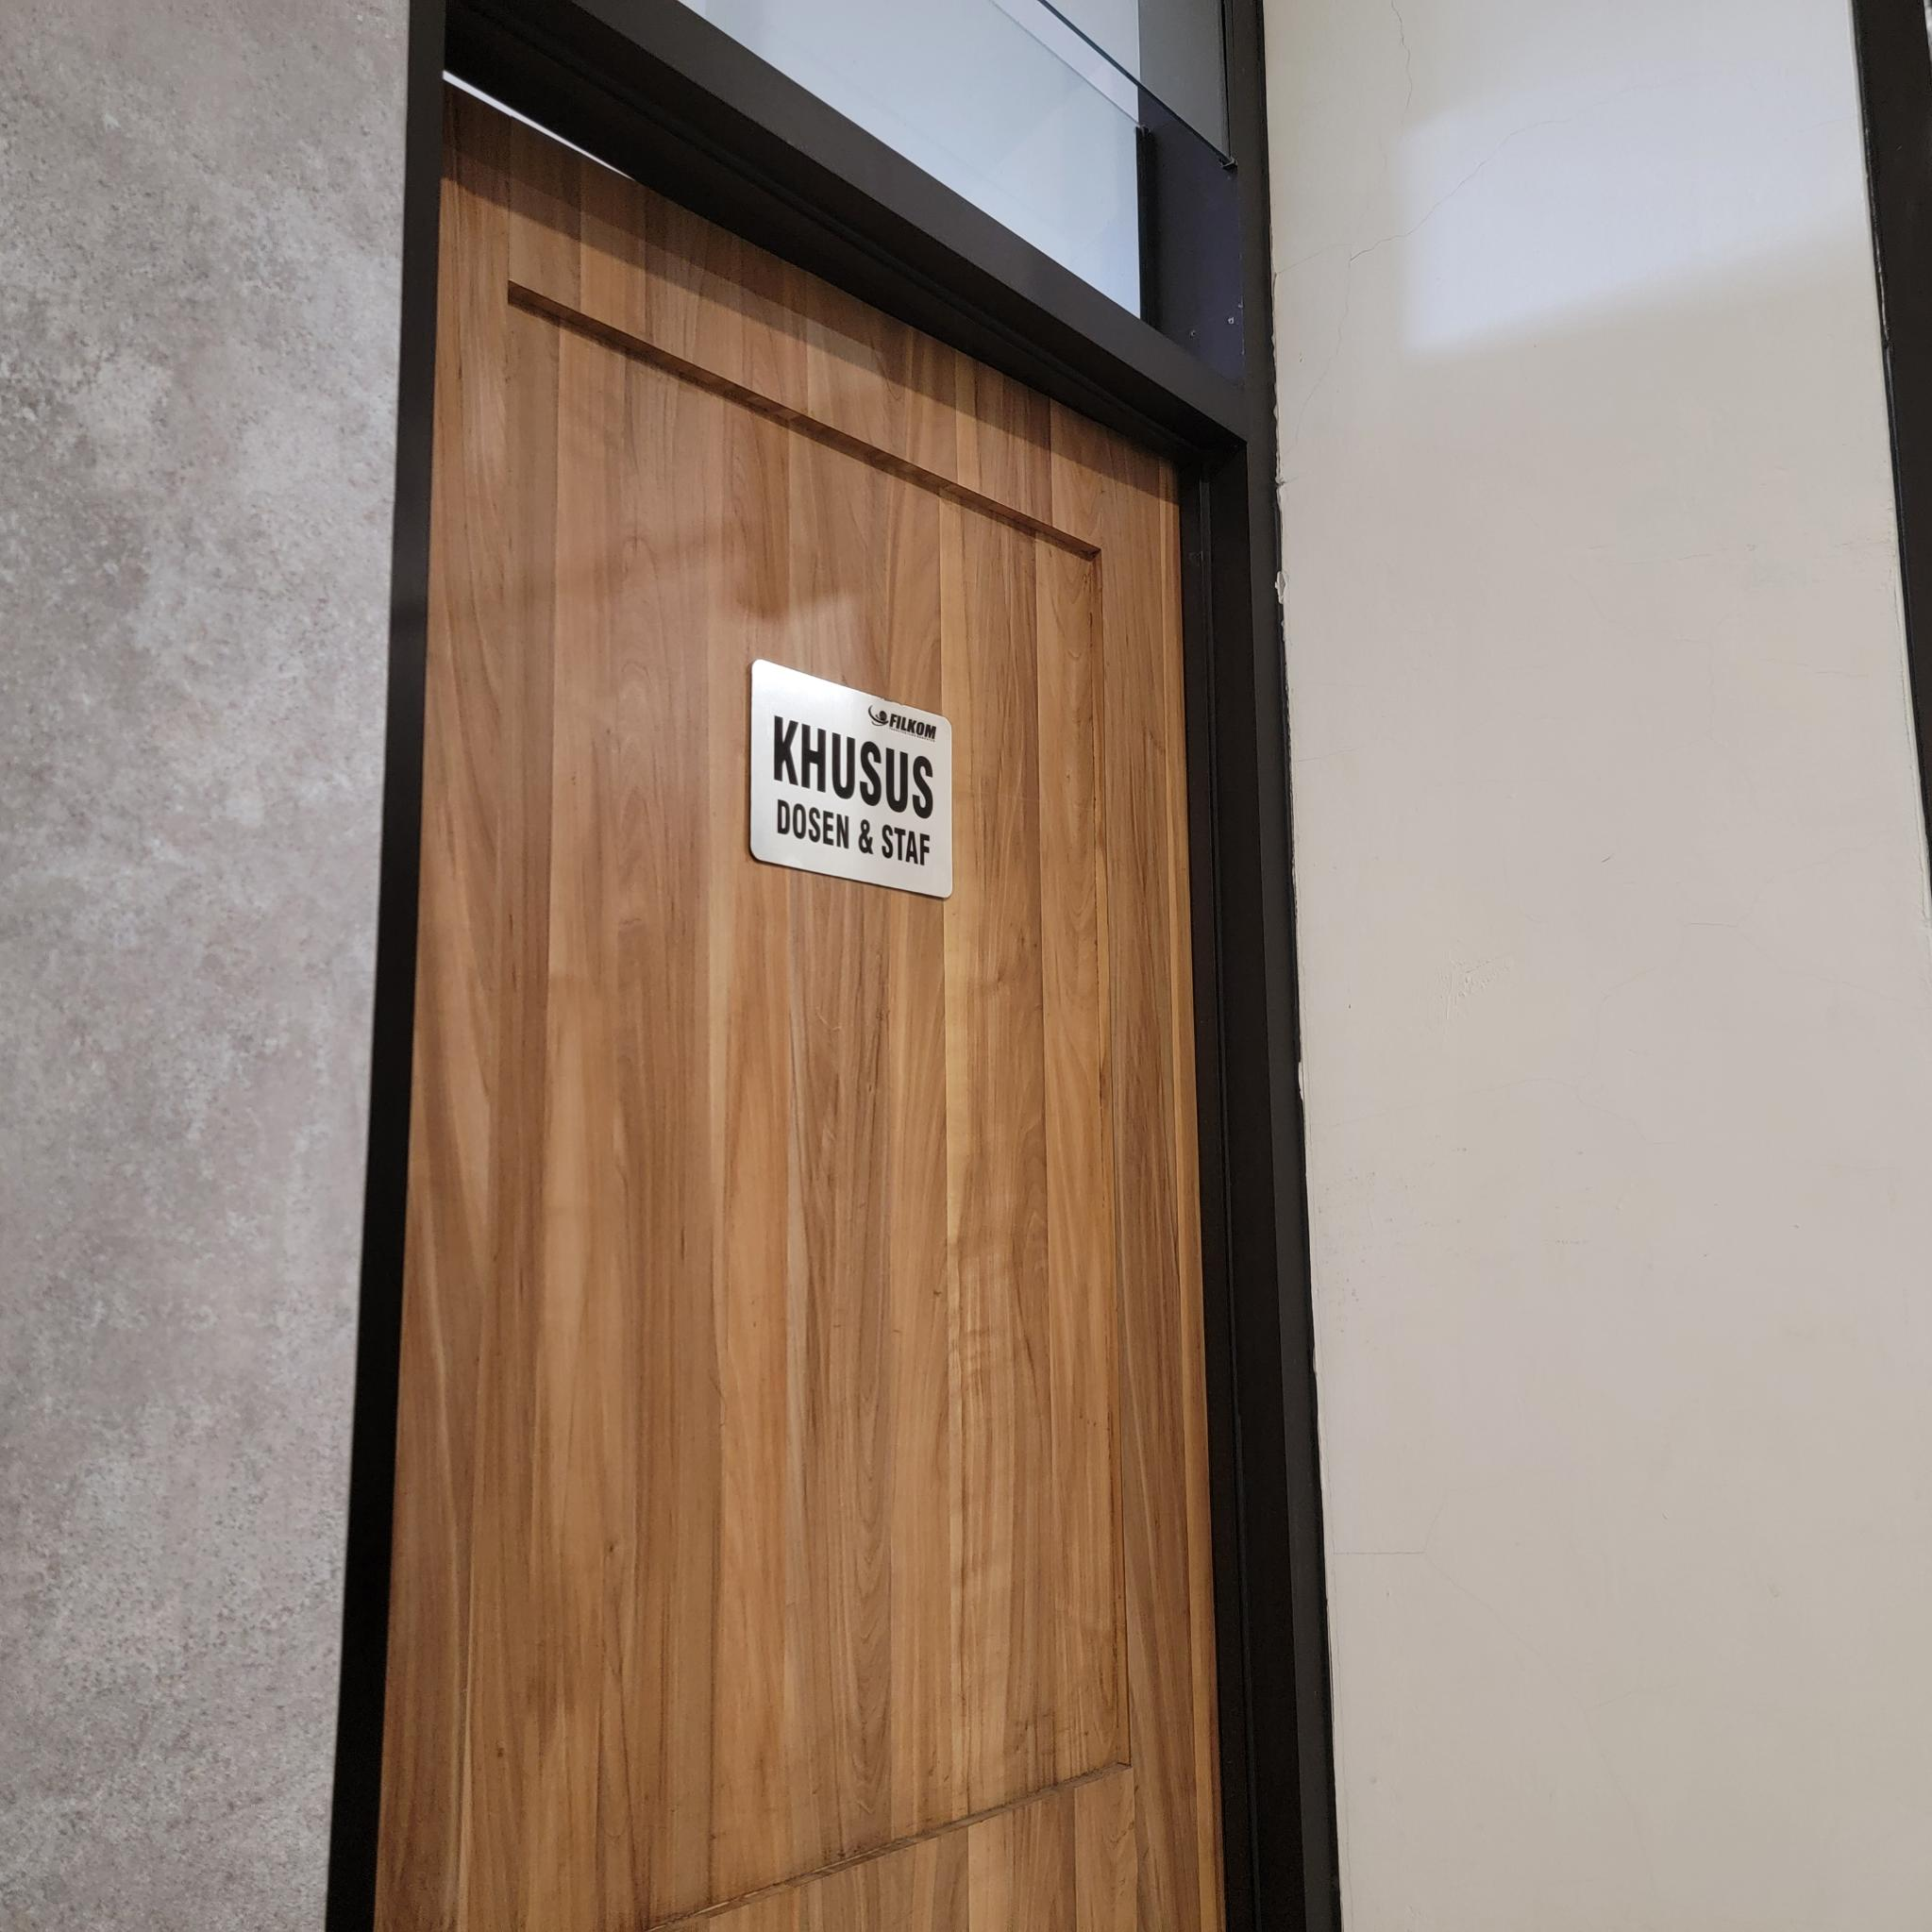plate: (750, 655, 954, 902)
